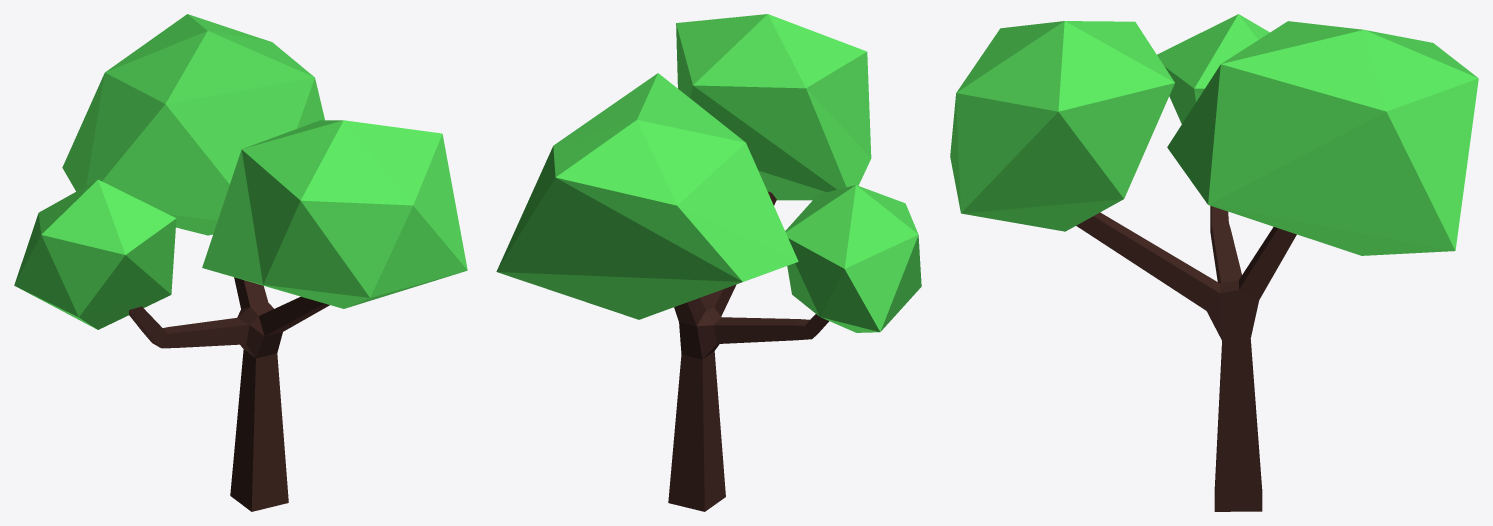
File: Tree 2.fbx
3 views of the same model, side by side, from view 1: azimuth 30°, elevation 25°; view 2: azimuth 150°, elevation 25°; view 3: azimuth 270°, elevation 25° (orthographic). The views are drawn at different scales.
Visible parts, largest first — view 1: Cube; view 2: Cube; view 3: Cube.
Boxes of the visible parts, left/top/right/bottom form: Cube: left=14, top=14, right=467, bottom=511; Cube: left=496, top=14, right=921, bottom=511; Cube: left=950, top=14, right=1478, bottom=511.
Bounding box in the file's own units: 441 × 559 × 554.
